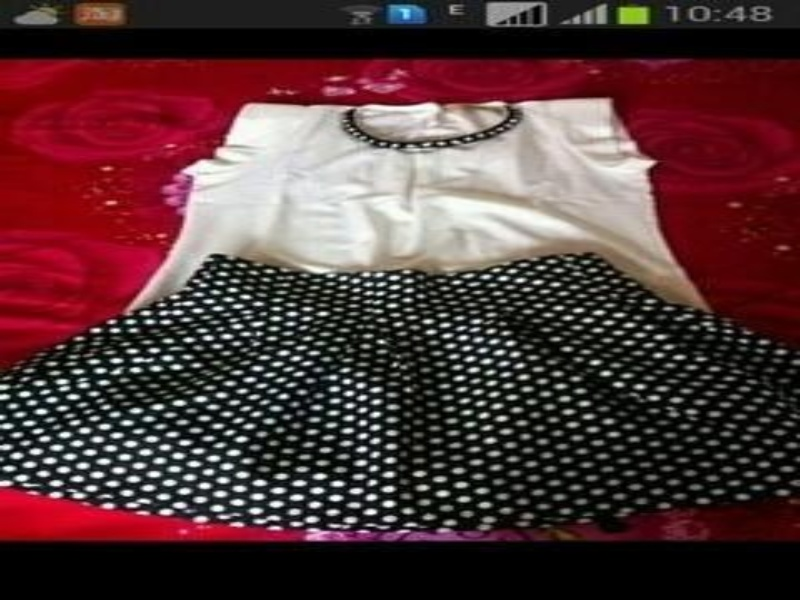skirt: (0, 252, 797, 538)
vest: (117, 94, 723, 327)
